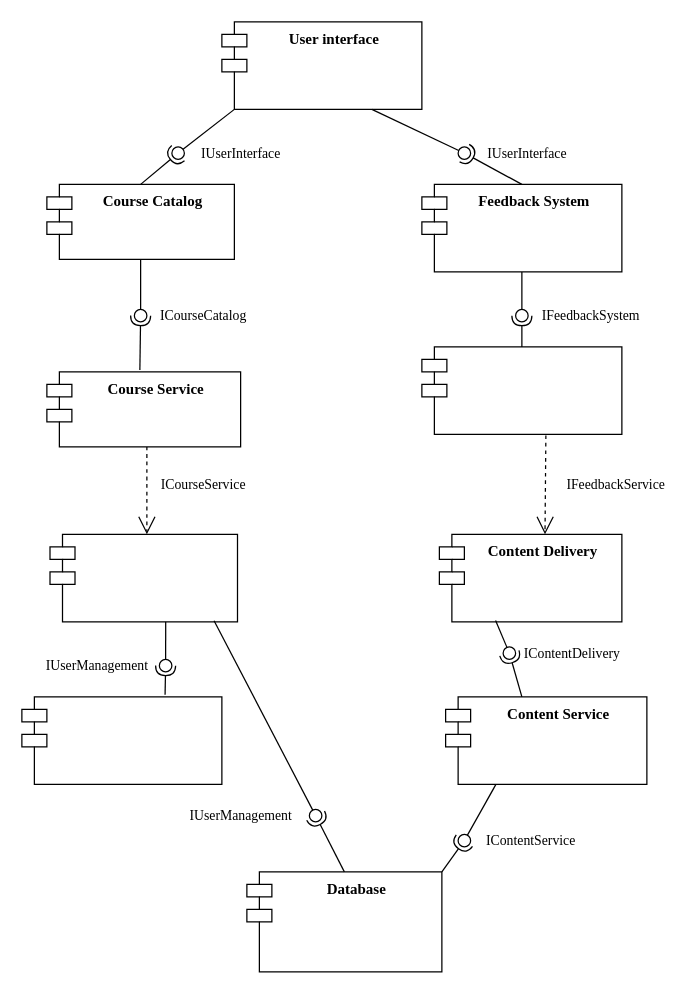
Image size: 700x994. Some labels were removed from this diagram. Each missing label, with the centre of its shape:
Authentication Service: the point at 121,740
Feedback Service: the point at 521,390
User Management: the point at 143,577
